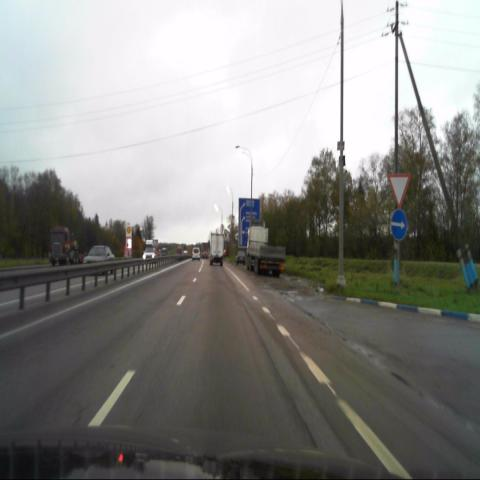4_1_2_1: (390, 209, 408, 240)
